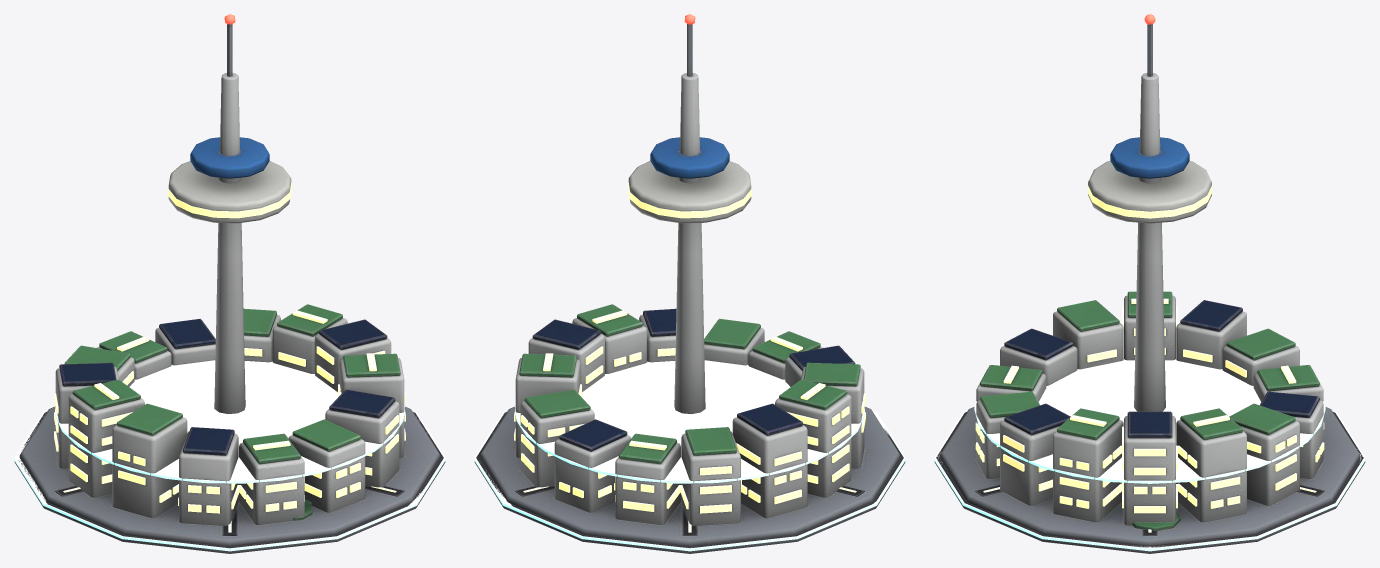
File: city_d.glb
3 renders of one model, left to right at view 1: azimuth 30°, elevation 25°; view 2: azimuth 150°, elevation 25°; view 3: azimuth 270°, elevation 25°, orthographic.
Visible parts, largest first — view 1: city_d, city_d_glow; view 2: city_d, city_d_glow; view 3: city_d, city_d_glow.
Boxes of the visible parts, x1,y1,x2,y2 form: city_d: [14, 24, 445, 553]; city_d_glow: [14, 14, 445, 551]; city_d: [474, 24, 905, 553]; city_d_glow: [474, 14, 905, 551]; city_d: [934, 24, 1365, 553]; city_d_glow: [934, 14, 1365, 551].
Bounding box in the file's own units: 3.49 × 4.03 × 3.49.
Materials: 4 (1 with a texture image).
